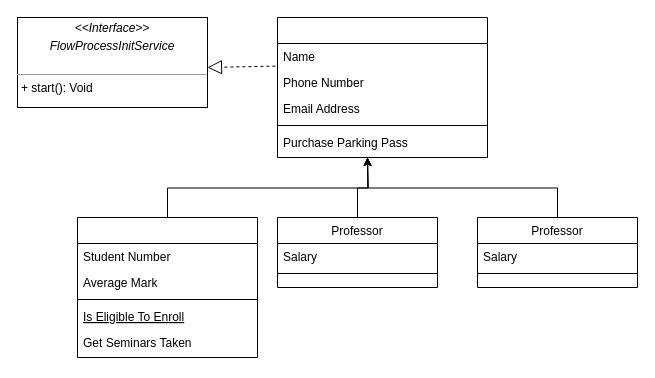
This 655x378 diagram has some shape labels left out. The shapes that lost their labels are listed below. From the top down, each one's box as (x1, y1, x2, y2) in pixels, then its label:
(276, 16, 488, 158): AbstractFlowProcessInitService
(76, 216, 258, 358): FlowProcessServiceInstanceImpl
